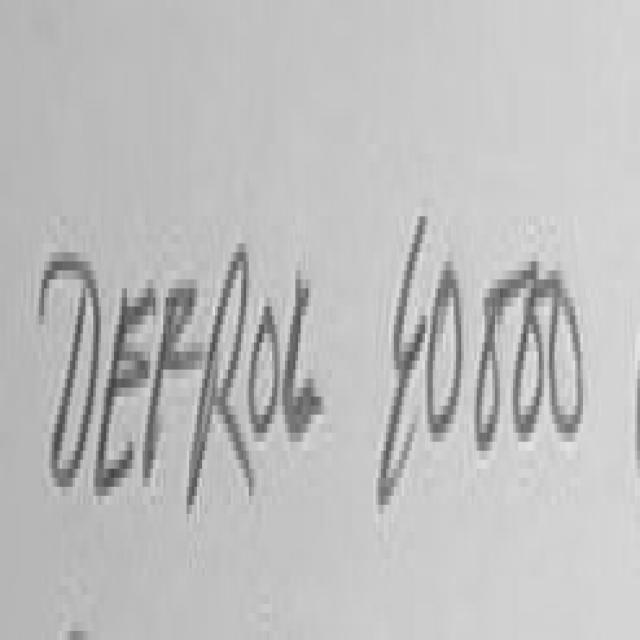0: (430, 270, 464, 433), (552, 279, 586, 433), (516, 288, 544, 442), (477, 297, 503, 451)
4: (378, 216, 428, 505)
D: (39, 252, 101, 487)
E: (96, 288, 154, 496)
F: (143, 288, 202, 478)
L: (285, 279, 321, 442)
R: (187, 243, 254, 514)
o: (249, 306, 280, 433)
